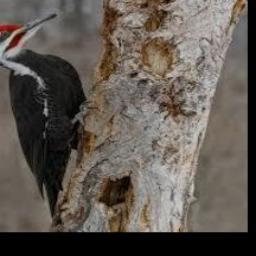Woodpecker: (0, 12, 88, 220)
